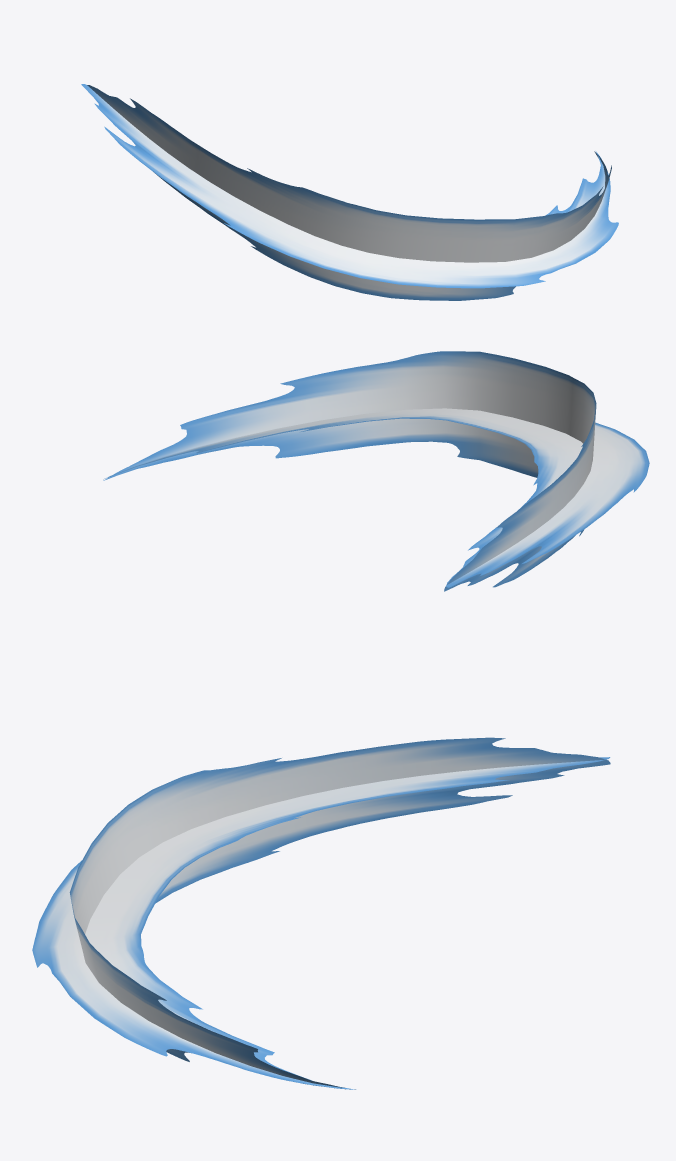
The model's file is qun1.FBX.
The picture shows the model from 3 angles, top to bottom: view 1: azimuth 30°, elevation 25°; view 2: azimuth 150°, elevation 25°; view 3: azimuth 270°, elevation 25°; orthographic projection. The views are drawn at different scales.
Parts seen in each view (by area): view 1: Plane002; view 2: Plane002; view 3: Plane002.
Part boxes in pixels (x1,y1,x2,y2): Plane002: [81, 84, 618, 300]; Plane002: [103, 351, 649, 591]; Plane002: [32, 737, 610, 1089].
Size of the model in its own units: 7.45 by 6.98 by 2.69.
